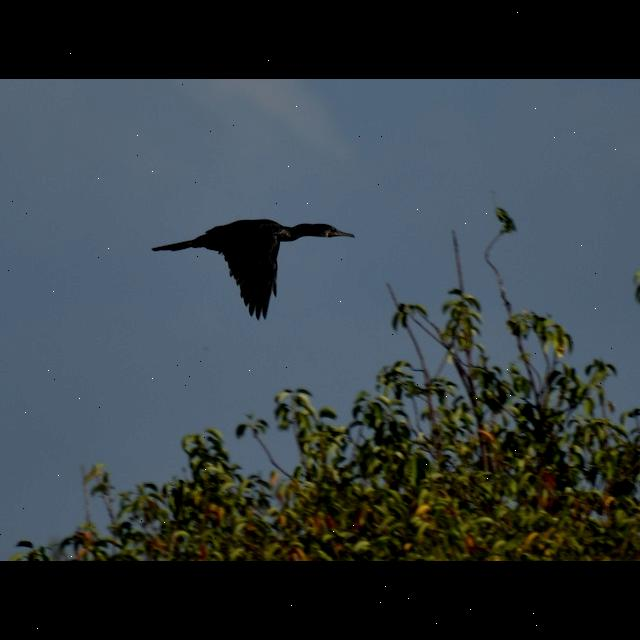cormorant: (137, 216, 356, 328)
